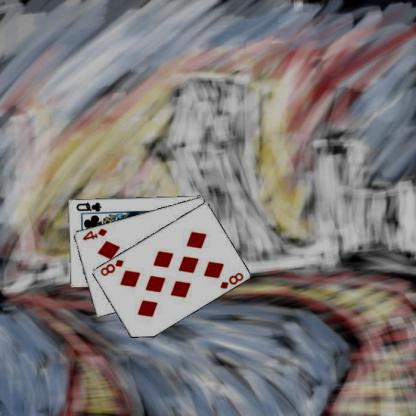4D: (82, 225, 110, 242)
8D: (219, 270, 246, 290), (100, 257, 126, 277)
QC: (76, 200, 104, 212)
